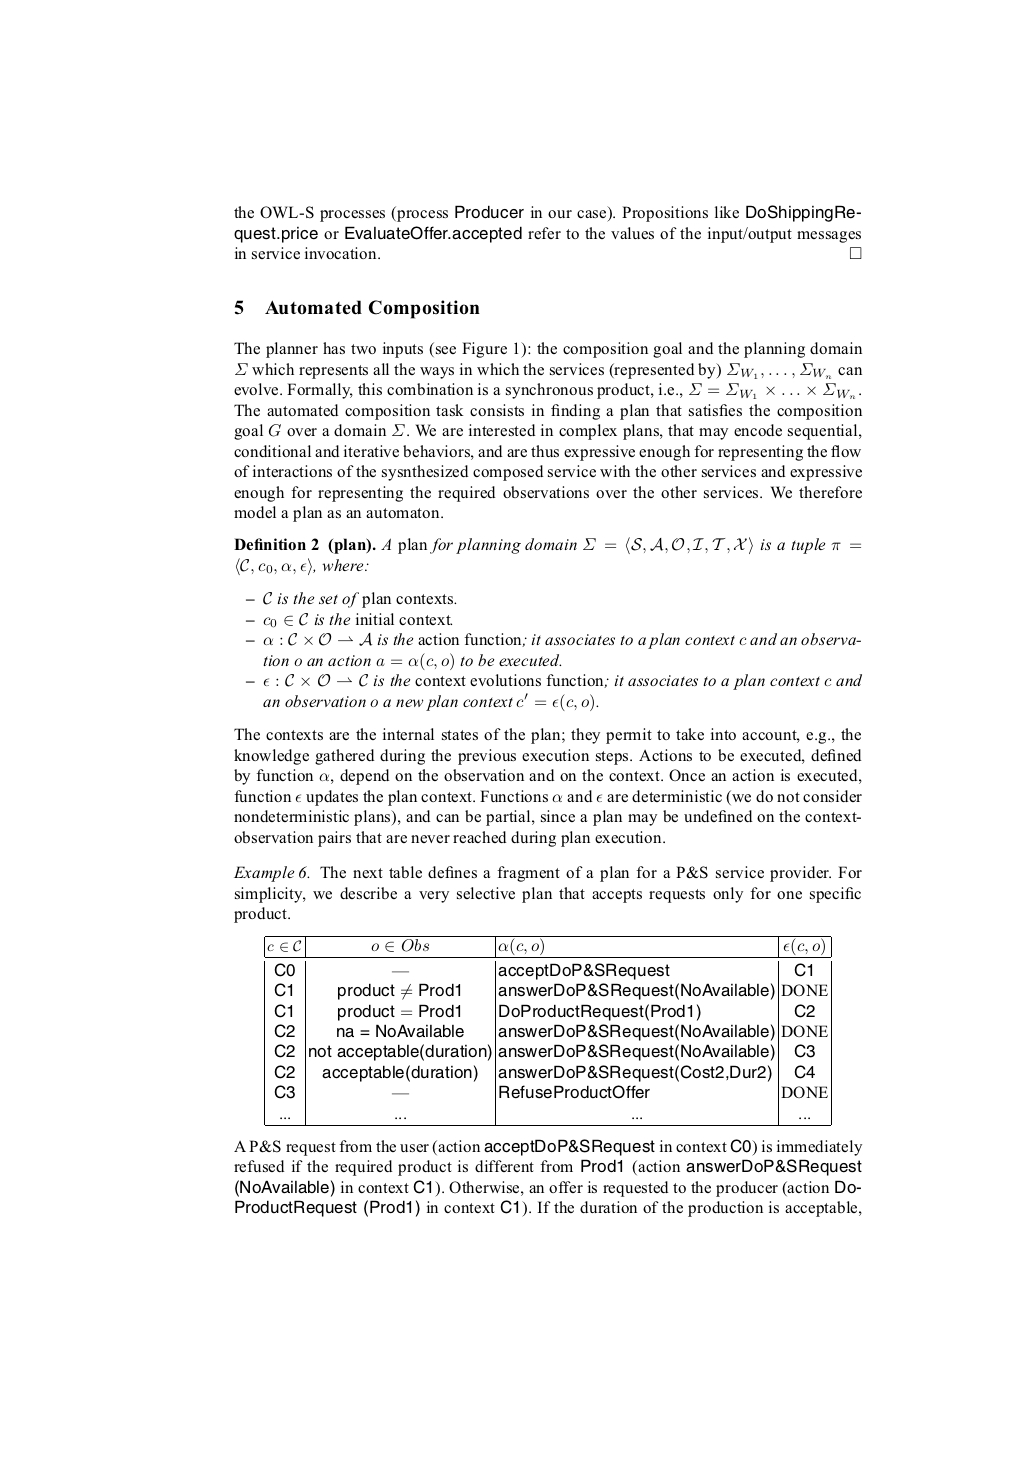Table: (264, 935, 831, 1125)
